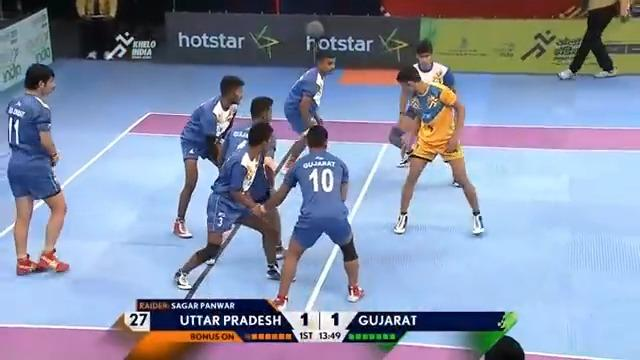Player: (257, 123, 367, 311), (174, 121, 286, 296), (301, 140, 392, 311), (4, 60, 73, 277), (388, 38, 456, 168), (282, 46, 336, 173)
Raider: (390, 38, 487, 237)
referee: (556, 0, 630, 80)
